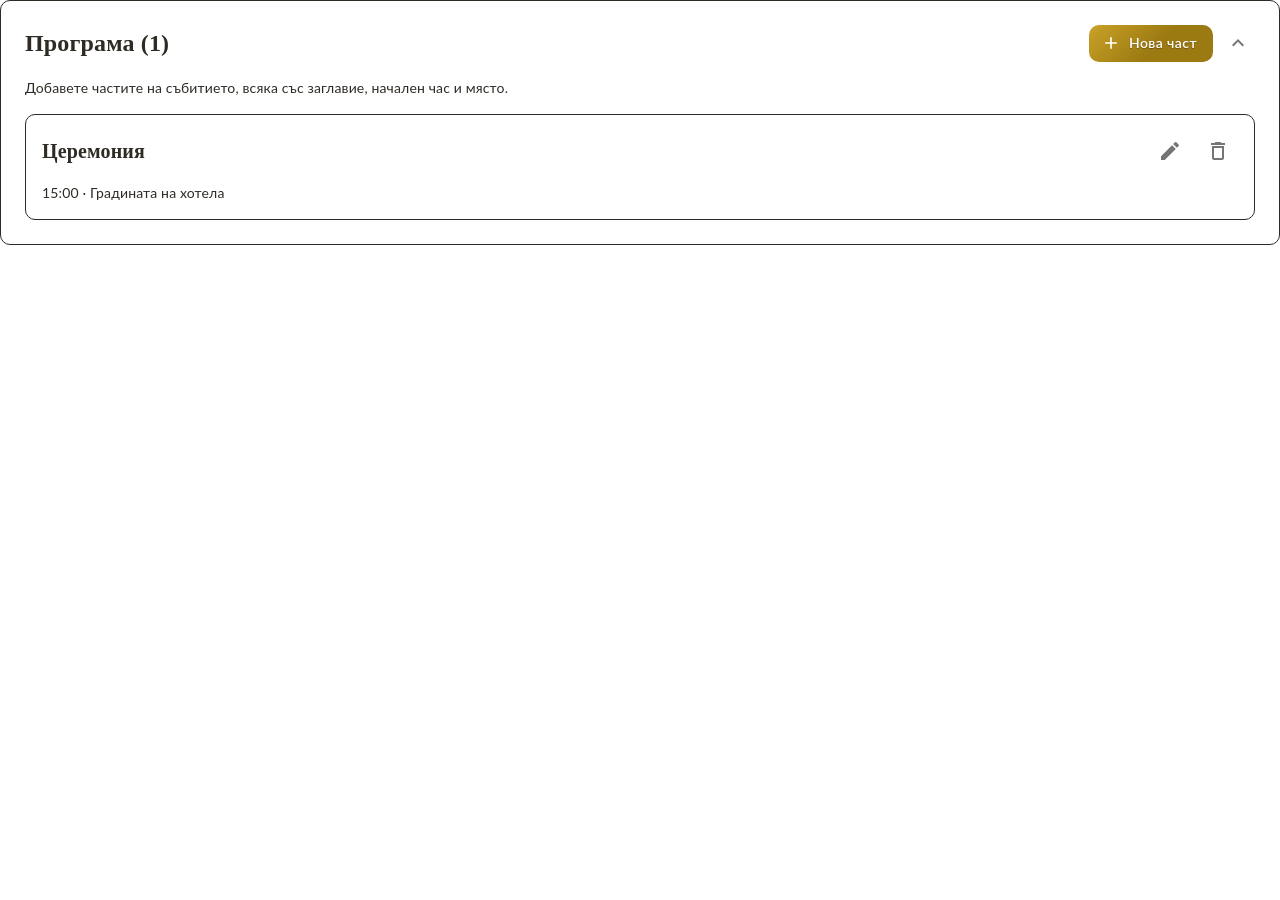
Test: SchedulePanel › adds a part in chronological order
Expected: the element "Церемония" is shown, [25, 114, 1255, 220]
Click the button "Нова част". click: (1151,43)
box: [1089, 25, 1213, 62]
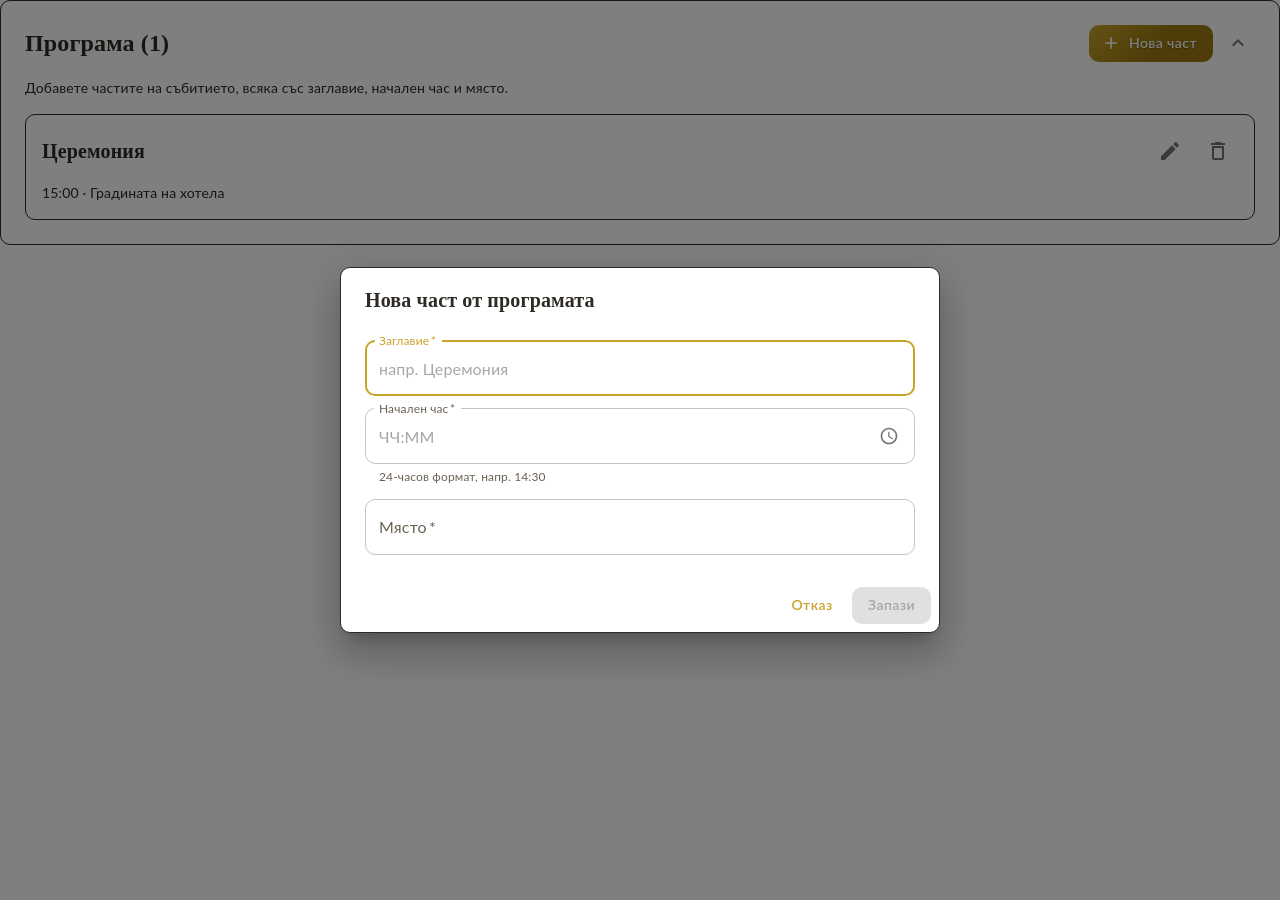
Type " Коктейл " into the field labelled "Заглавие *". click: (640,368)
box: [365, 340, 915, 396]
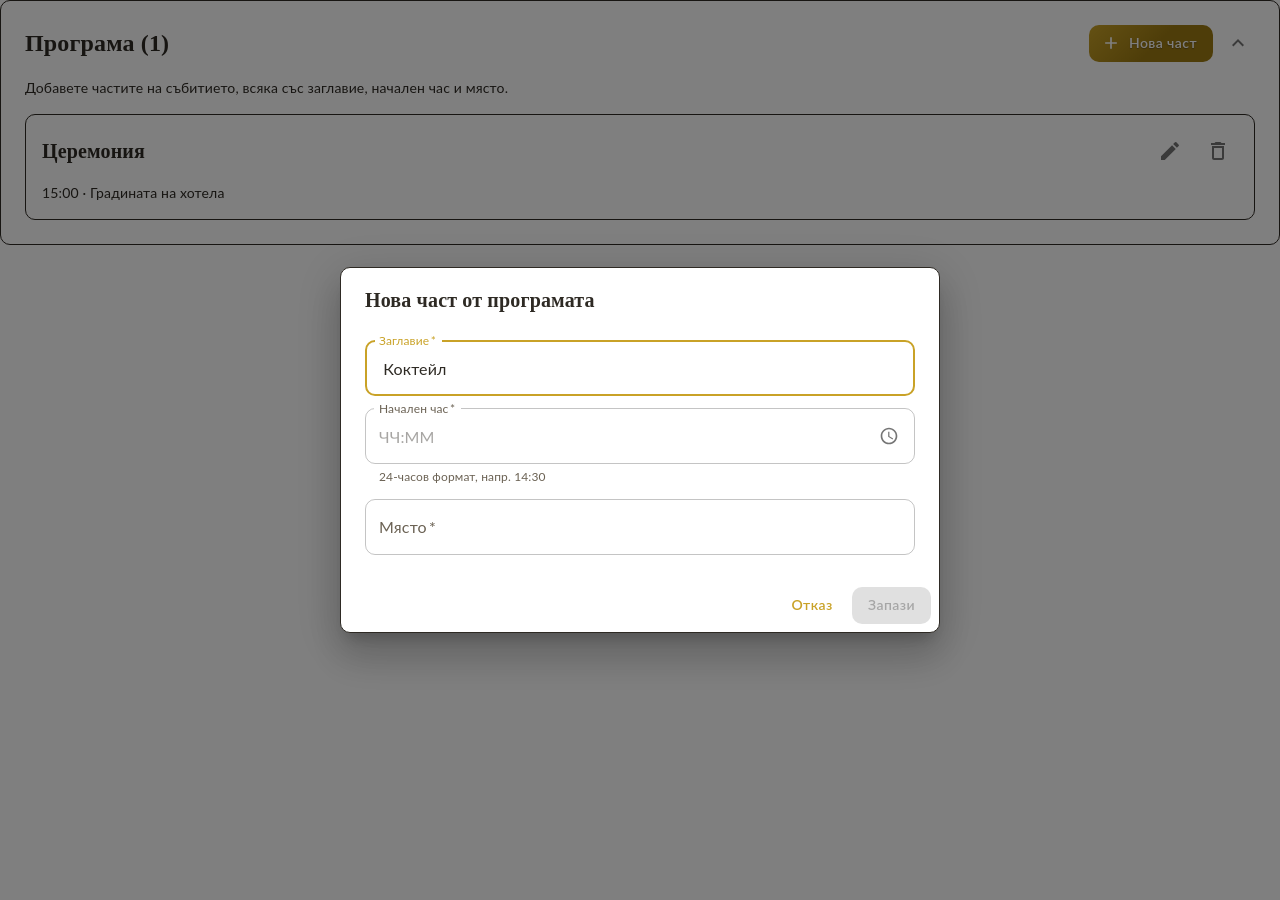
Type "1400" into the field labelled "Начален час *". click: (616,436)
box: [365, 408, 866, 464]
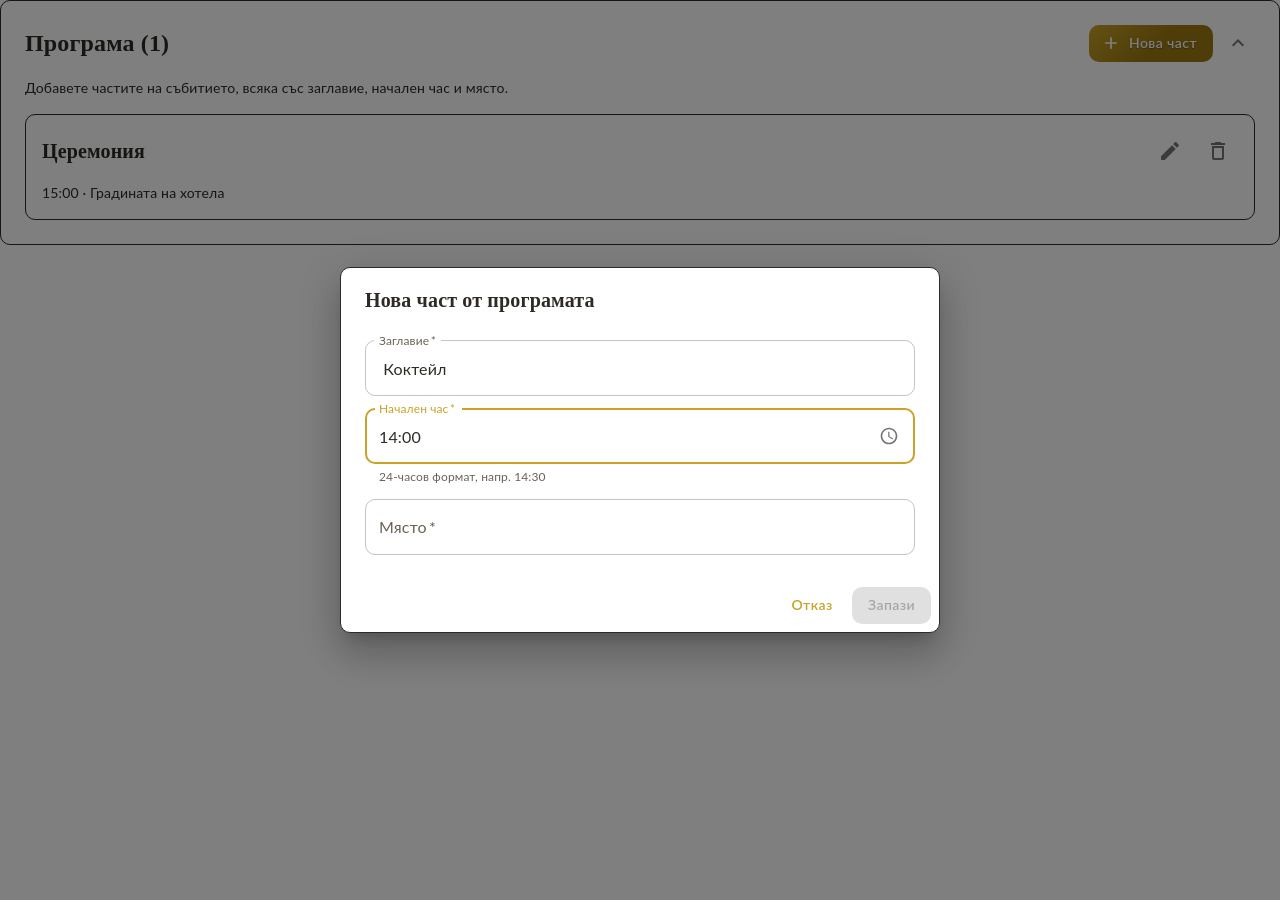
Now the field labelled "Начален час *" holds "14:00", box [365, 408, 866, 464]
Type "Терасата" into the field labelled "Място *". click: (640,527)
box: [365, 499, 915, 555]
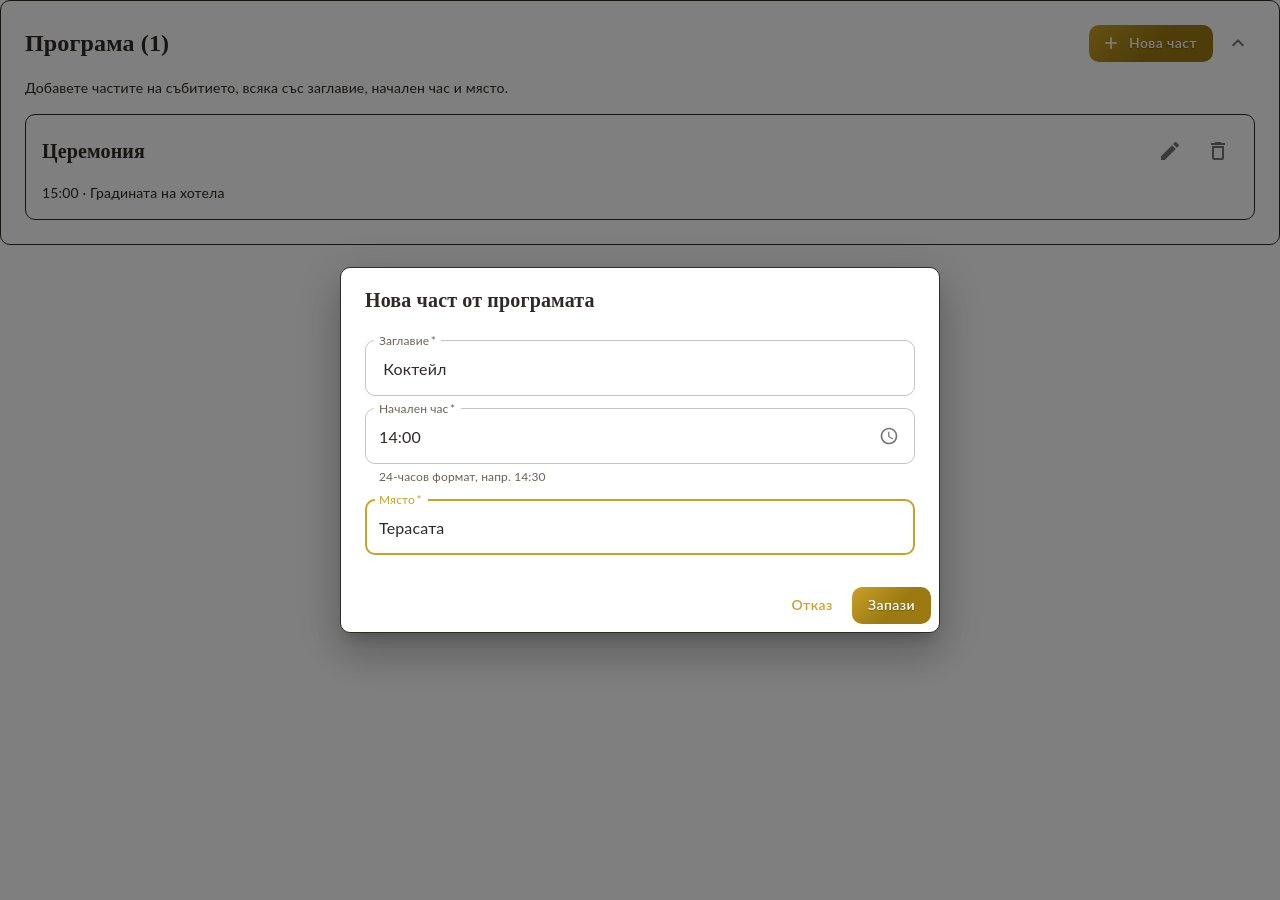
Click the button "Запази". click: (892,605)
box: [852, 587, 931, 624]
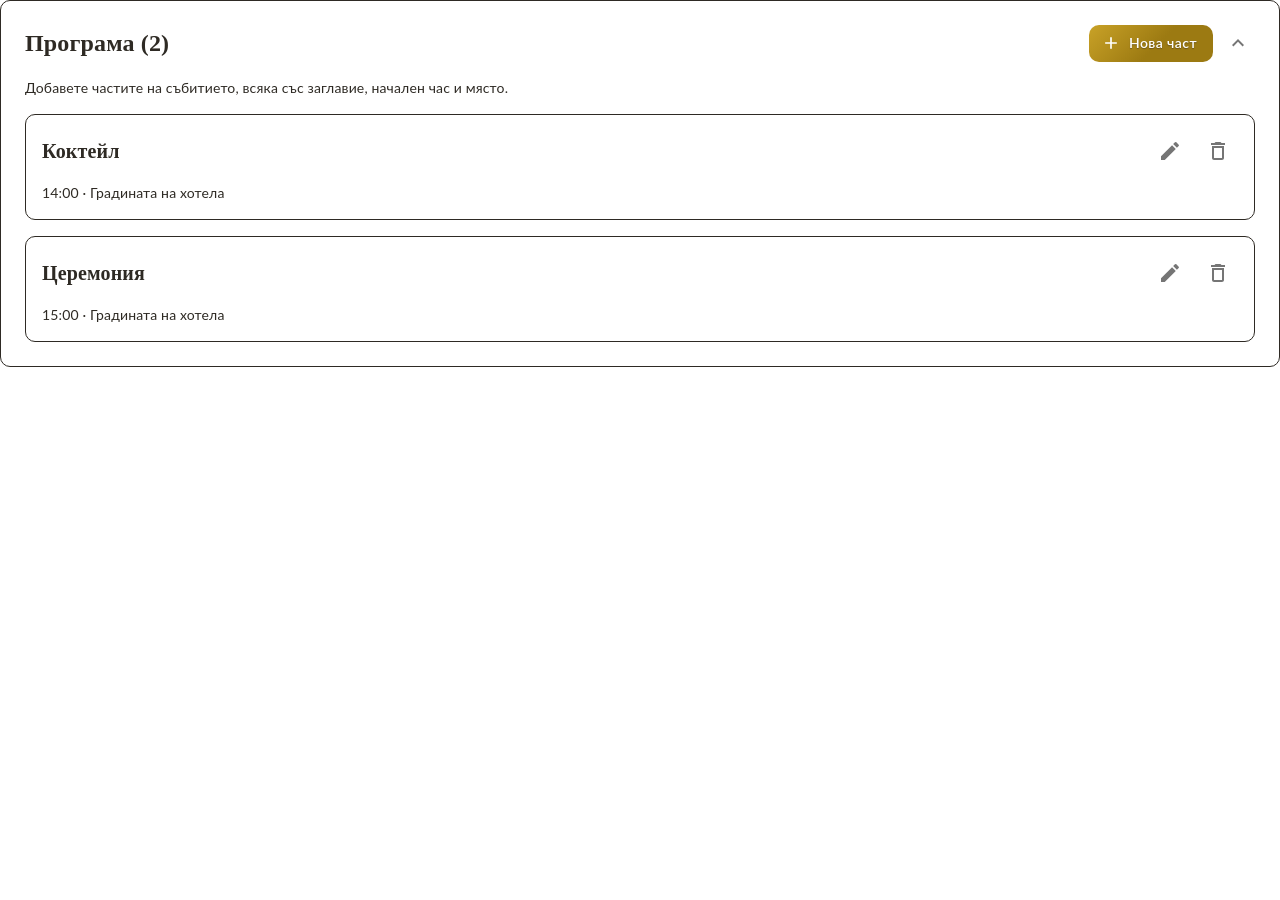
Now the element "Коктейл" is shown, box [25, 114, 1255, 220]
